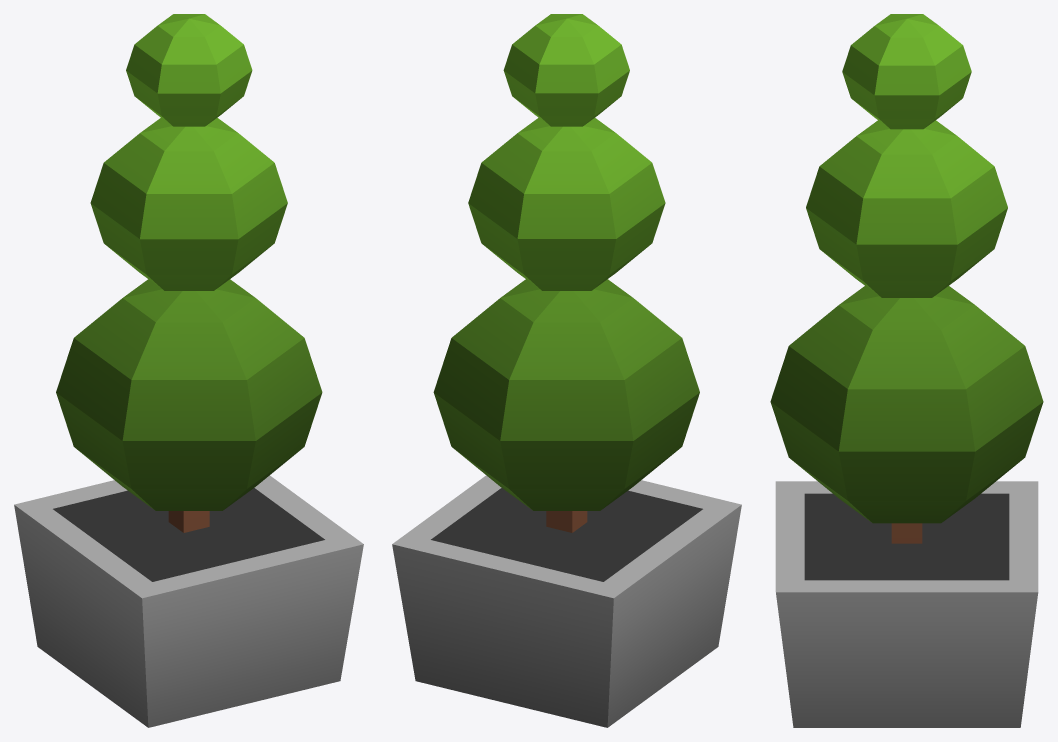
File: flower.fbx
3 views of the same model, side by side, from view 1: azimuth 30°, elevation 25°; view 2: azimuth 150°, elevation 25°; view 3: azimuth 270°, elevation 25° (orthographic). The views are drawn at different scales.
Parts seen in each view (by area): view 1: flower; view 2: flower; view 3: flower.
Boxes of the visible parts, box(x1,y1,x2,y2) form: flower: box(14, 14, 363, 727); flower: box(392, 14, 741, 727); flower: box(770, 14, 1043, 727).
Bounding box in the file's own units: 65.48 × 182 × 68.13.
1 material, 1 textured.
